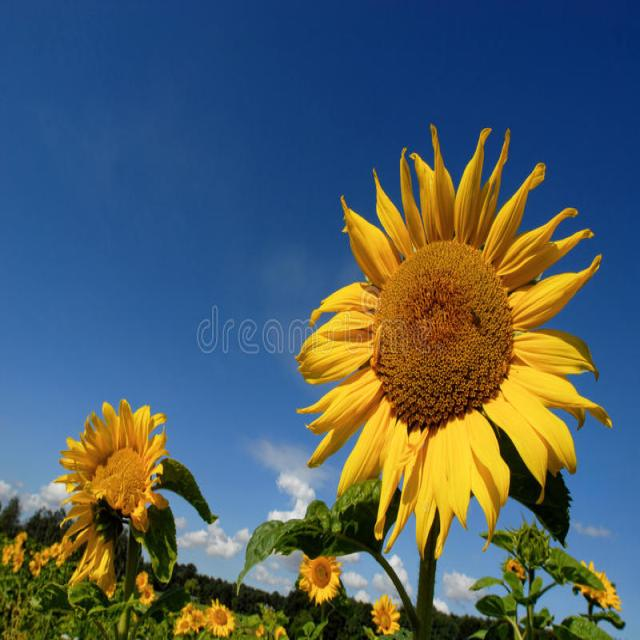sunflower: (314, 106, 602, 570), (53, 398, 174, 543), (296, 543, 352, 598), (371, 588, 401, 640), (202, 593, 234, 640)
